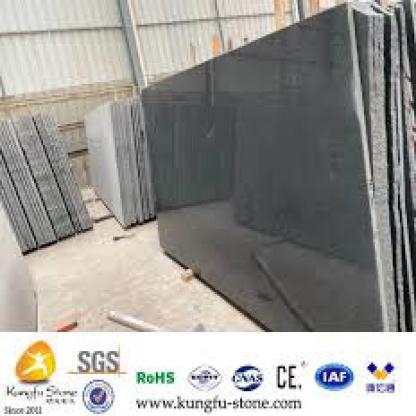Igneous_Diorite: (162, 8, 412, 334), (80, 107, 150, 227)
